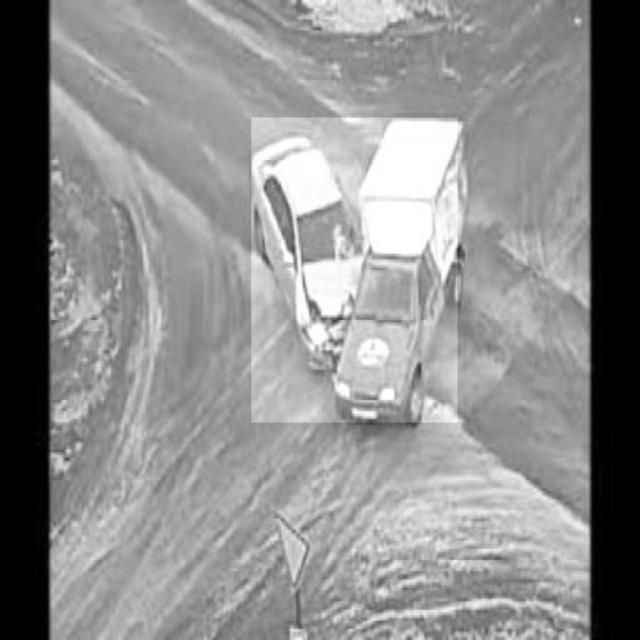accident: (251, 119, 457, 423)
